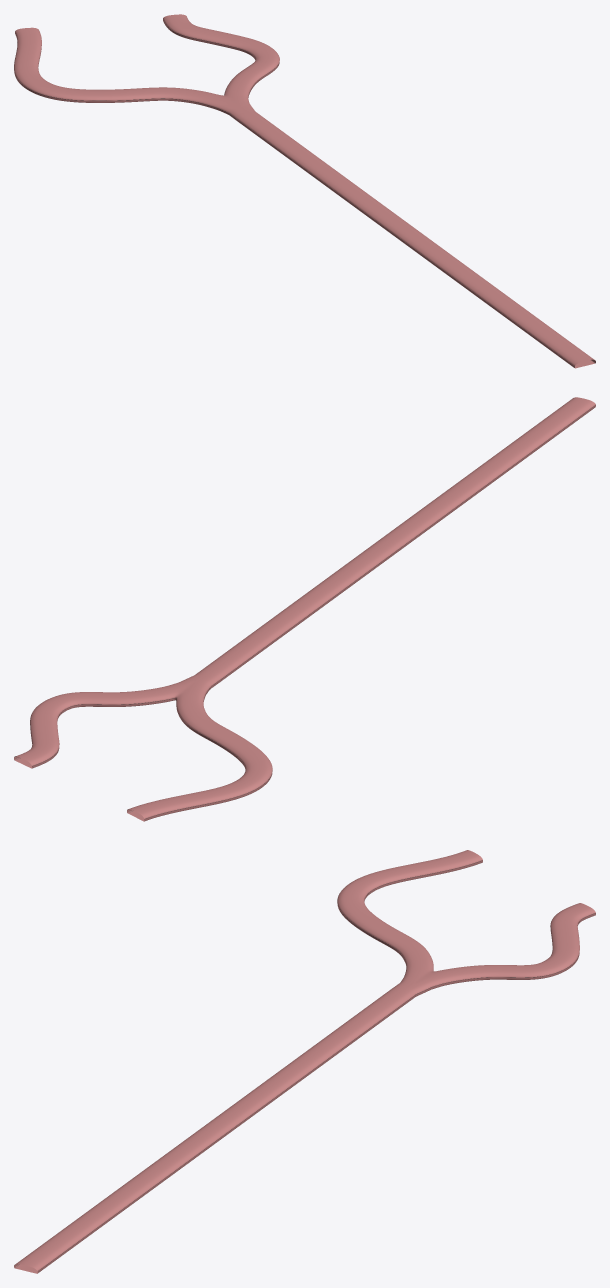
Rendered from future2_track1.fbx.
3 renders of one model, top to bottom at view 1: azimuth 30°, elevation 25°; view 2: azimuth 150°, elevation 25°; view 3: azimuth 330°, elevation 25°, orthographic. The views are drawn at different scales.
Visible parts, largest first — view 1: future2_track1; view 2: future2_track1; view 3: future2_track1.
Boxes of the visible parts, box(x1,y1,x2,y2) form: future2_track1: box(14, 14, 595, 368); future2_track1: box(14, 397, 595, 821); future2_track1: box(14, 850, 595, 1273).
Size of the model in its own units: 698 by 15.7 by 2606.
